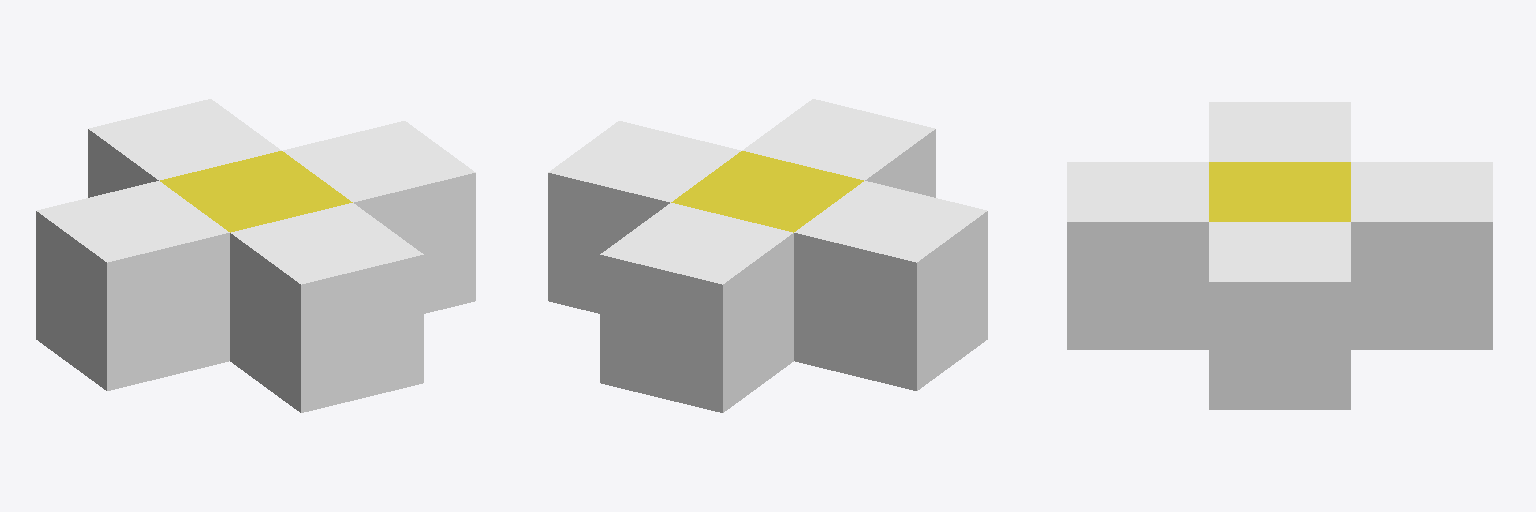
3 renders of one model, left to right at view 1: azimuth 30°, elevation 25°; view 2: azimuth 150°, elevation 25°; view 3: azimuth 270°, elevation 25°, orthographic.
Visible parts, largest first — view 1: PlumpStandardMushroom_19; view 2: PlumpStandardMushroom_19; view 3: PlumpStandardMushroom_19.
Boxes of the visible parts, x1,y1,x2,y2 form: PlumpStandardMushroom_19: [36, 99, 475, 412]; PlumpStandardMushroom_19: [548, 99, 987, 412]; PlumpStandardMushroom_19: [1067, 102, 1492, 409].
Size of the model in its own units: 3 by 1 by 3.
Materials: 1 (1 with a texture image).